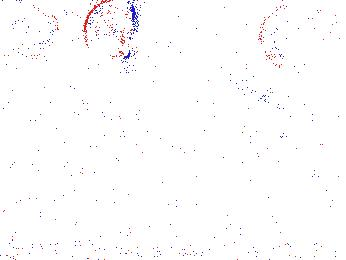moon jellyfish: (199, 81, 287, 155), (260, 3, 338, 69), (117, 91, 186, 157), (1, 1, 59, 60), (83, 1, 135, 64), (21, 76, 89, 122)
